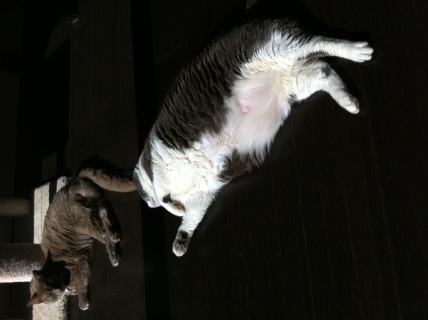Cat: (132, 13, 373, 257), (27, 164, 136, 310)
